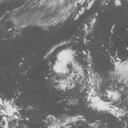cyclone: (42, 40, 86, 95)
